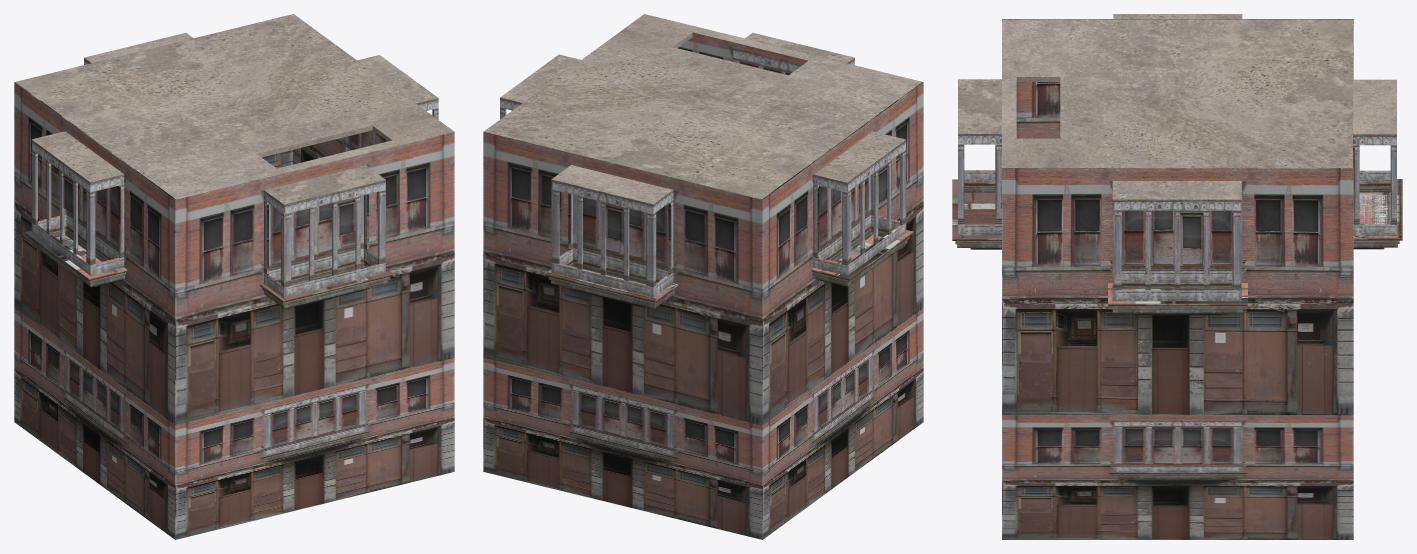
The model's file is BagBuilding7_50.fbx.
The picture shows the model from 3 angles, left to right: view 1: azimuth 30°, elevation 25°; view 2: azimuth 150°, elevation 25°; view 3: azimuth 270°, elevation 25°; orthographic projection. The views are drawn at different scales.
Visible parts, largest first — view 1: Box50, BoxA50, roof50, main50; view 2: Box50, BoxA50, roof50, main50; view 3: Box50, roof50, BoxA50, main50.
Boxes of the visible parts, x1,y1,x2,y2 form: Box50: (14,14,454,424); BoxA50: (14,308,454,539); roof50: (16,14,453,204); main50: (25,58,438,308); Box50: (483,14,923,425); BoxA50: (483,308,923,539); roof50: (484,14,921,204); main50: (500,58,913,308); Box50: (1002,19,1353,415); roof50: (958,14,1396,199); BoxA50: (1002,414,1353,539); main50: (952,134,1402,315).
Bounding box in the file's own units: 24.4 × 22.25 × 24.4.
